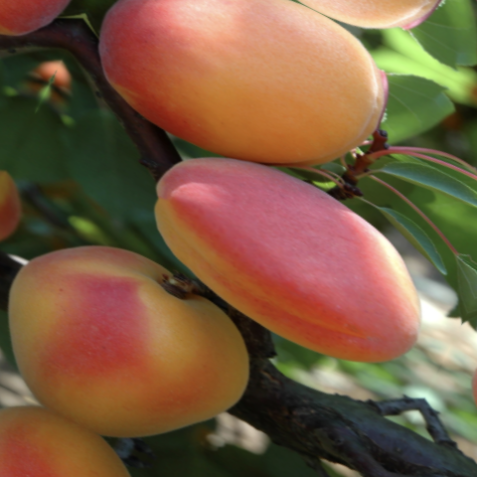mango: (113, 106, 467, 403), (0, 183, 305, 477), (54, 0, 428, 227)
